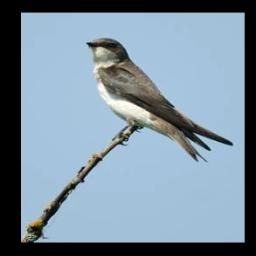Swallow: (85, 37, 233, 163)
